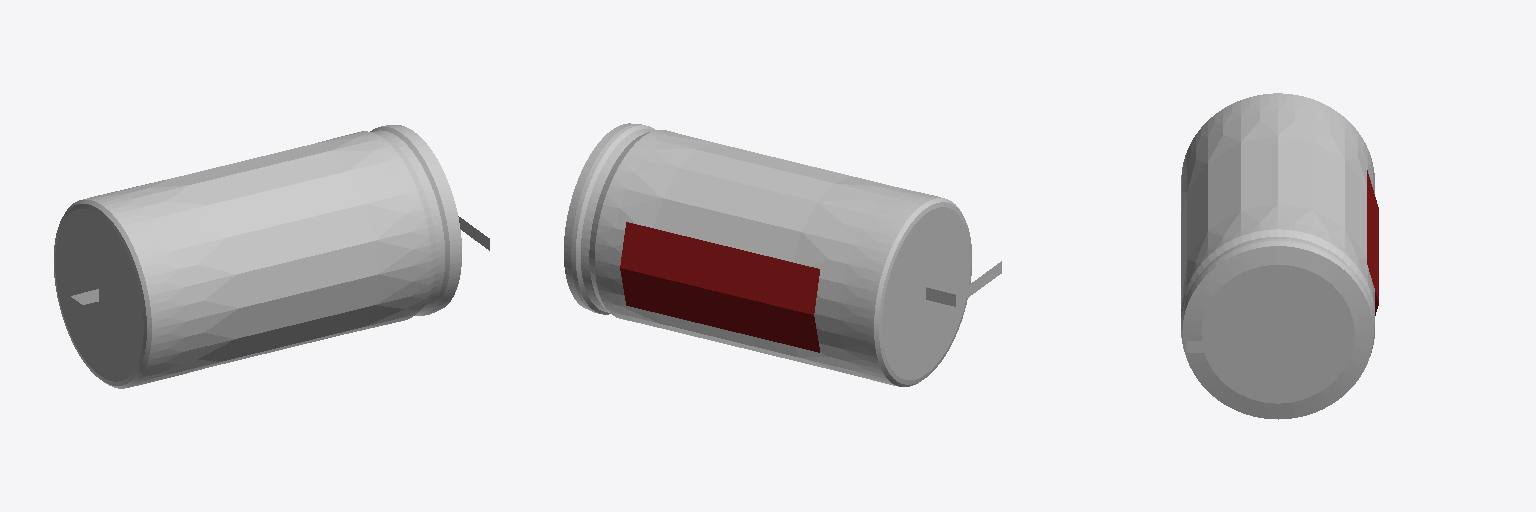
3 renders of one model, left to right at view 1: azimuth 30°, elevation 25°; view 2: azimuth 150°, elevation 25°; view 3: azimuth 270°, elevation 25°, orthographic.
Visible parts, largest first — view 1: ShapeIndexedFaceSet.001_ShapeIndexedFaceSet.002, ShapeIndexedFaceSet.003_ShapeIndexedFaceSet; view 2: ShapeIndexedFaceSet.001_ShapeIndexedFaceSet.002, ShapeIndexedFaceSet_ShapeIndexedFaceSet.001, ShapeIndexedFaceSet.003_ShapeIndexedFaceSet; view 3: ShapeIndexedFaceSet.001_ShapeIndexedFaceSet.002, ShapeIndexedFaceSet_ShapeIndexedFaceSet.001, ShapeIndexedFaceSet.002_ShapeIndexedFaceSet.003.
Part boxes in pixels (bbox=[...]): ShapeIndexedFaceSet.001_ShapeIndexedFaceSet.002: bbox=[54, 125, 461, 388]; ShapeIndexedFaceSet.003_ShapeIndexedFaceSet: bbox=[70, 289, 115, 341]; ShapeIndexedFaceSet.001_ShapeIndexedFaceSet.002: bbox=[564, 123, 971, 386]; ShapeIndexedFaceSet_ShapeIndexedFaceSet.001: bbox=[620, 222, 819, 352]; ShapeIndexedFaceSet.003_ShapeIndexedFaceSet: bbox=[926, 261, 1001, 306]; ShapeIndexedFaceSet.001_ShapeIndexedFaceSet.002: bbox=[1181, 93, 1374, 419]; ShapeIndexedFaceSet_ShapeIndexedFaceSet.001: bbox=[1367, 170, 1378, 315]; ShapeIndexedFaceSet.002_ShapeIndexedFaceSet.003: bbox=[1186, 341, 1277, 352].
Size of the model in its own units: 35.54 by 16 by 16.32.